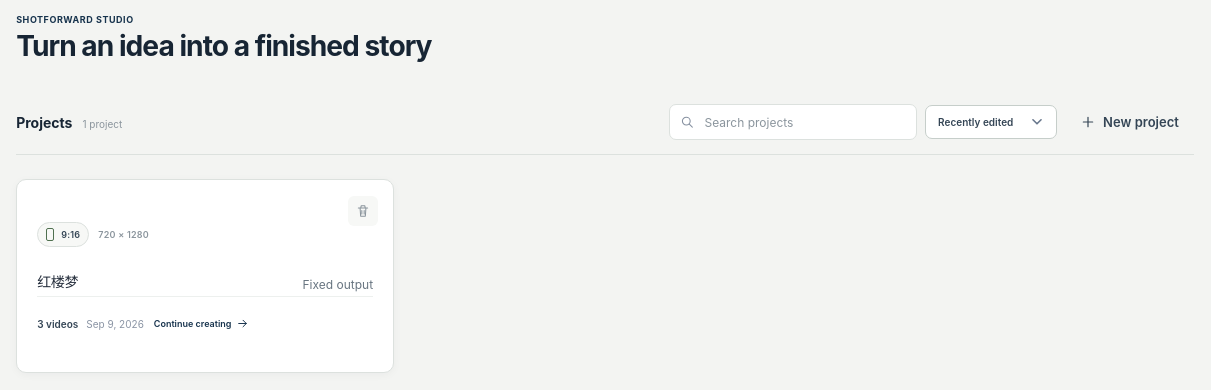
Test: ProjectsPage › keeps one create action and provides a recoverable search result state
expect the heading "红楼梦" is shown: met, box [37,273,78,290]
expect the number of buttons "New project" is 1: met, box [1065,104,1194,140]
Type "不存在的项目" into the search field labelled "Search projects". click: (804, 122)
box: [702,114,906,130]
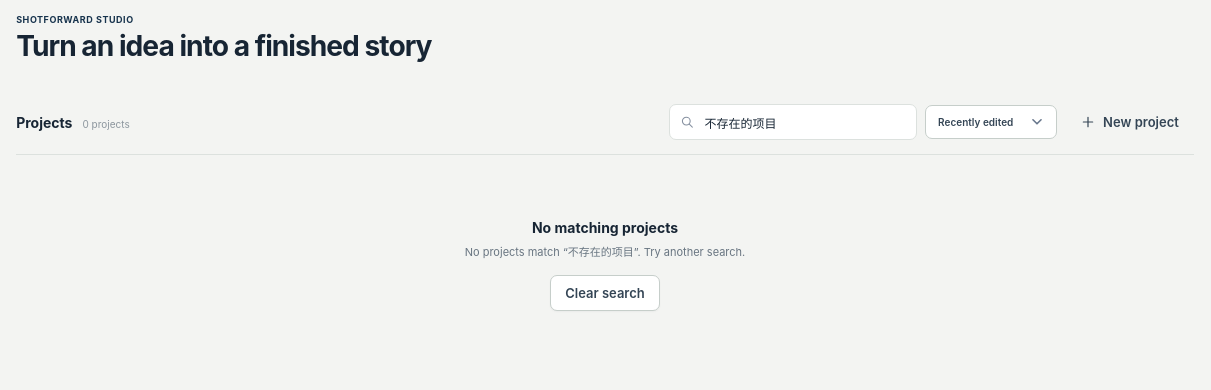
expect the text "No matching projects" is shown: met, box [532,219,678,236]
Click the button "Clear search". click: (605, 293)
box: [550,275,660,311]
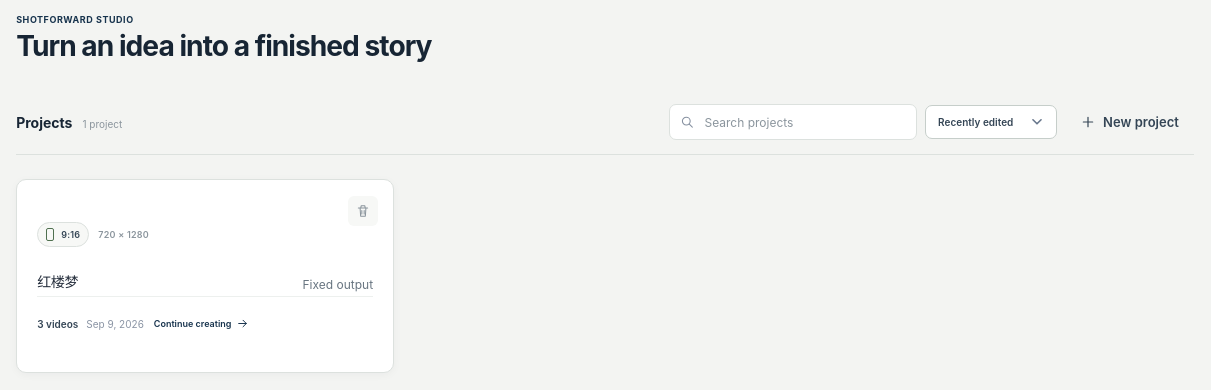
expect the heading "红楼梦" is shown: met, box [37,273,78,290]
